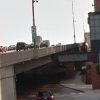Bridge: (5, 47, 91, 81)
